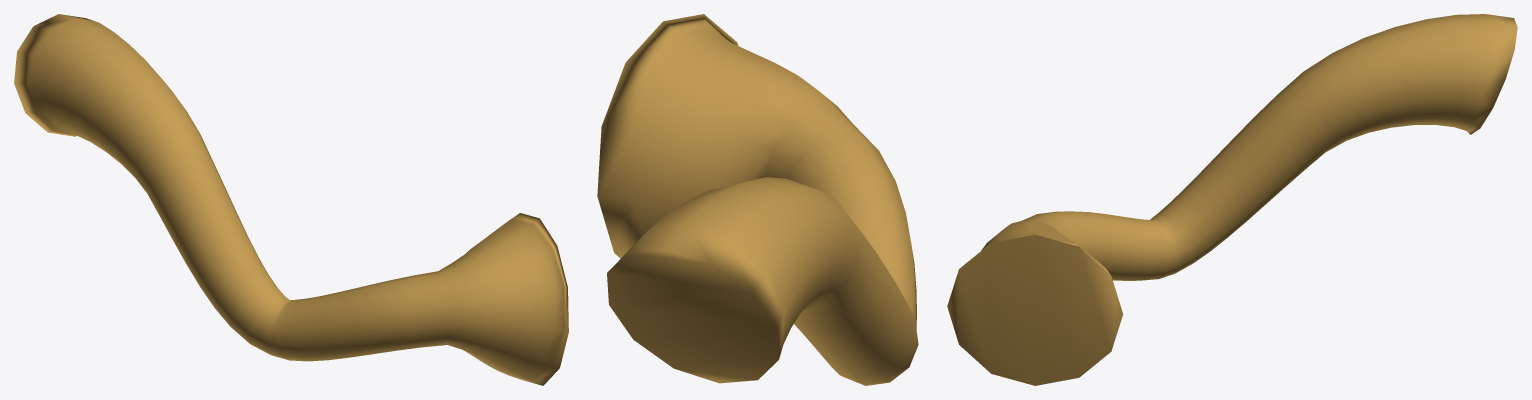
3 renders of one model, left to right at view 1: azimuth 30°, elevation 25°; view 2: azimuth 150°, elevation 25°; view 3: azimuth 270°, elevation 25°, orthographic. The views are drawn at different scales.
Visible parts, largest first — view 1: 右侧后交叉韧带; view 2: 右侧后交叉韧带; view 3: 右侧后交叉韧带.
Boxes of the visible parts, x1=… form: 右侧后交叉韧带: x1=14, y1=14, x2=568, y2=385; 右侧后交叉韧带: x1=597, y1=14, x2=918, y2=385; 右侧后交叉韧带: x1=947, y1=14, x2=1517, y2=385.
Bounding box in the file's own units: 0.0344 × 0.0274 × 0.0559.
